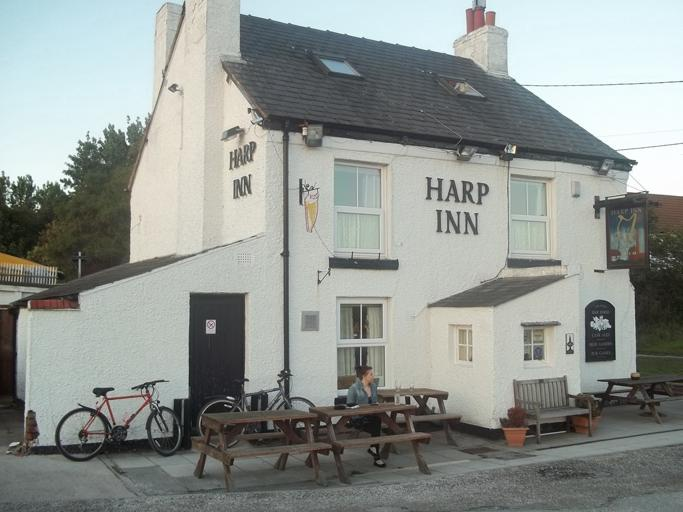non-vehicle: (54, 379, 183, 463), (196, 368, 322, 450)
